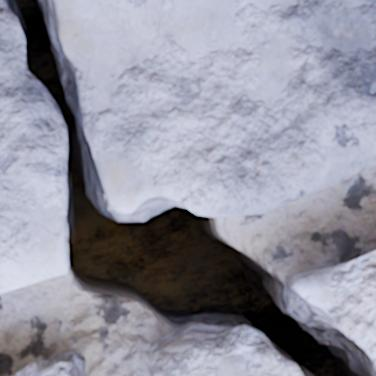brick: (12, 350, 85, 375)
broken_brick: (57, 0, 375, 217), (0, 0, 67, 294), (287, 250, 375, 359), (148, 325, 301, 375)
crack: (2, 0, 375, 375)
